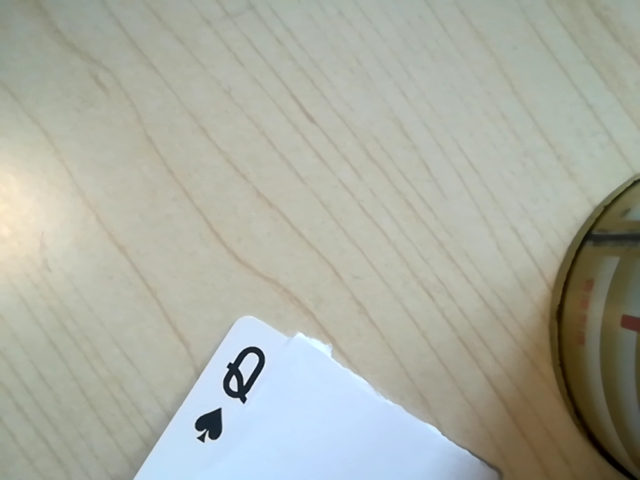ht q: (185, 337, 276, 447)
